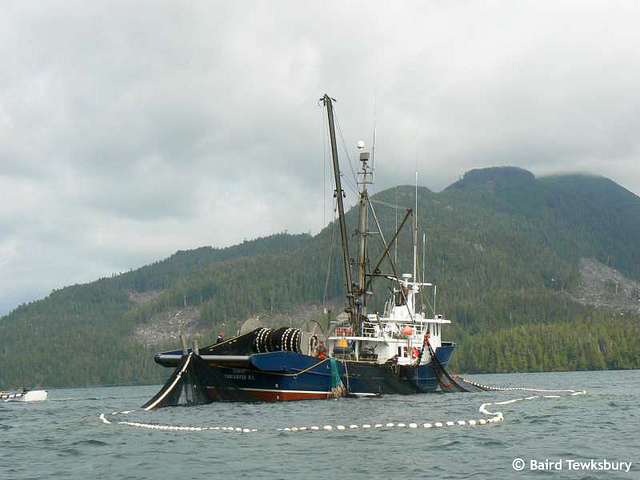fishing_boat: (146, 100, 505, 414)
